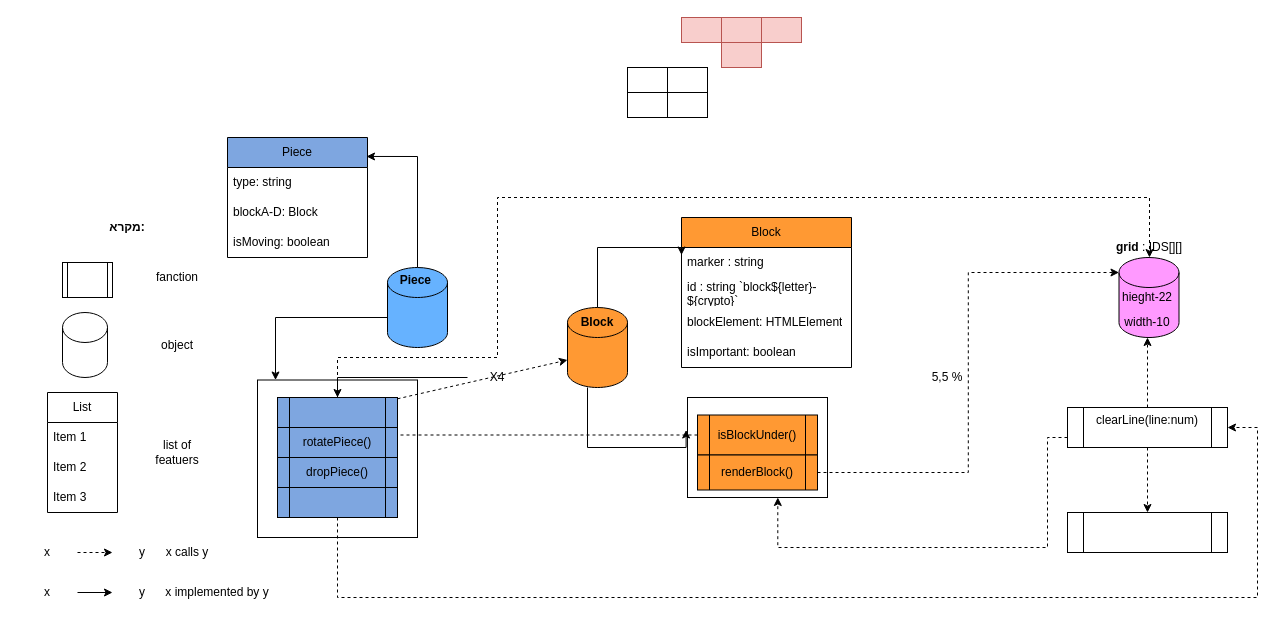
Image size: 1283x625. Some labels were removed from this diagram. Here are the shapes that lost their labels. From the top down, the centre of each, then its label:
At point 337,412: "buildPiece()".
At point 337,502: "landPiece()".
At point 1147,532: "score: num".
